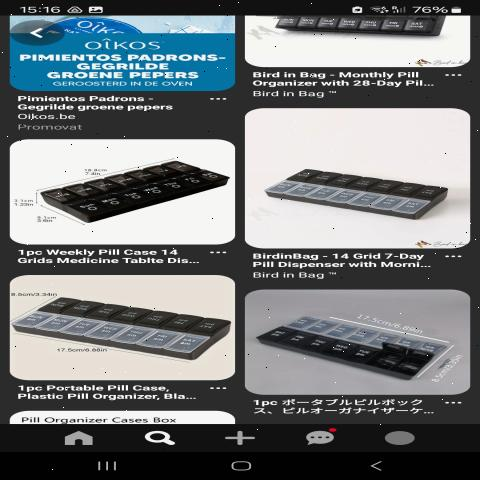PillBox: (31, 148, 227, 238), (25, 286, 227, 371), (255, 303, 460, 385), (253, 156, 466, 230)
